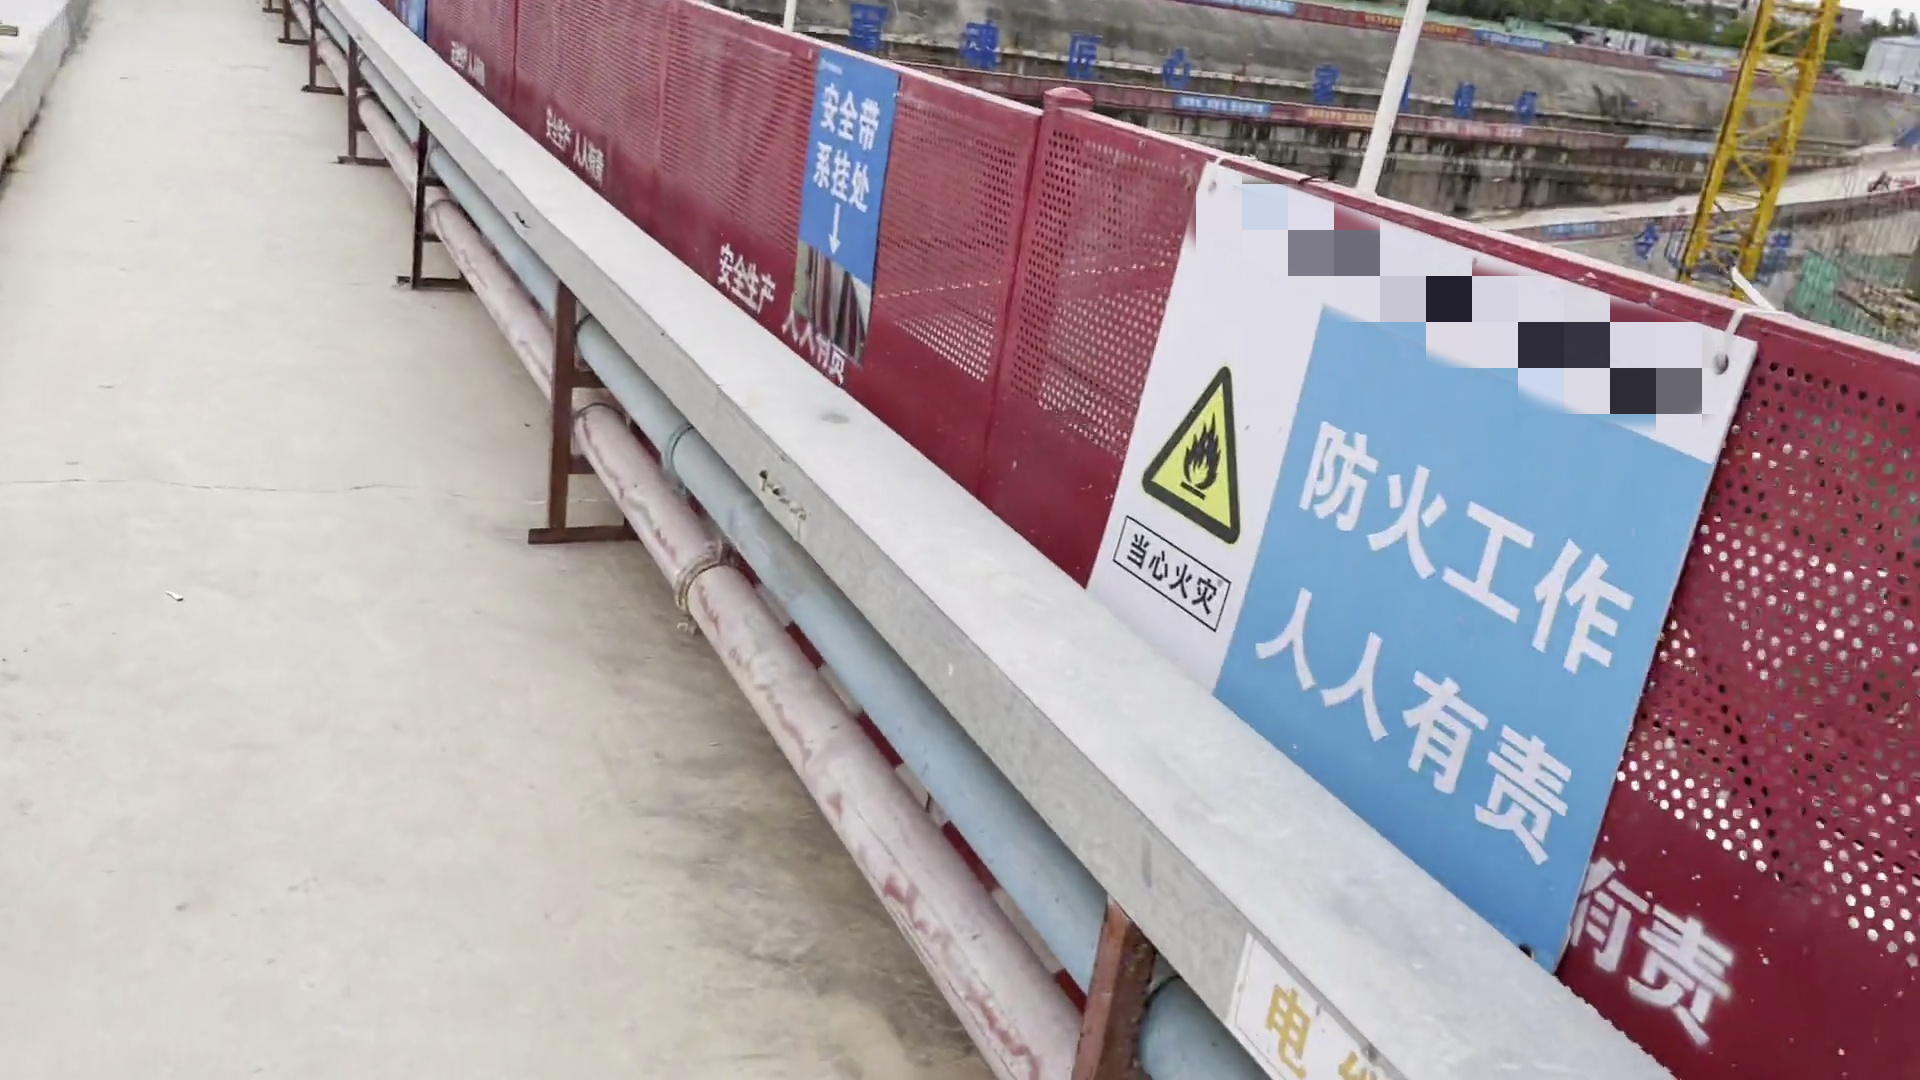fence: (1254, 161, 1920, 1080), (843, 51, 1287, 735), (385, 1, 853, 396)
slogan: (1064, 141, 1742, 1000), (750, 42, 1010, 455), (1164, 87, 1542, 156), (1472, 15, 1567, 59), (386, 1, 448, 61), (1238, 1, 1305, 22)
